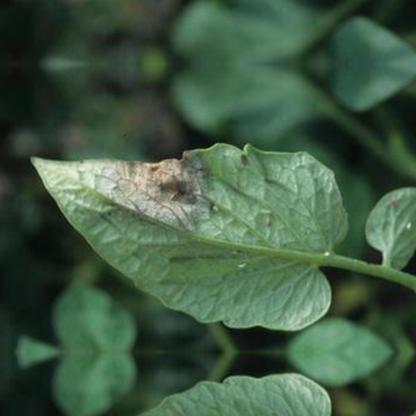Late-Blight: (27, 138, 358, 336), (26, 366, 357, 416)
